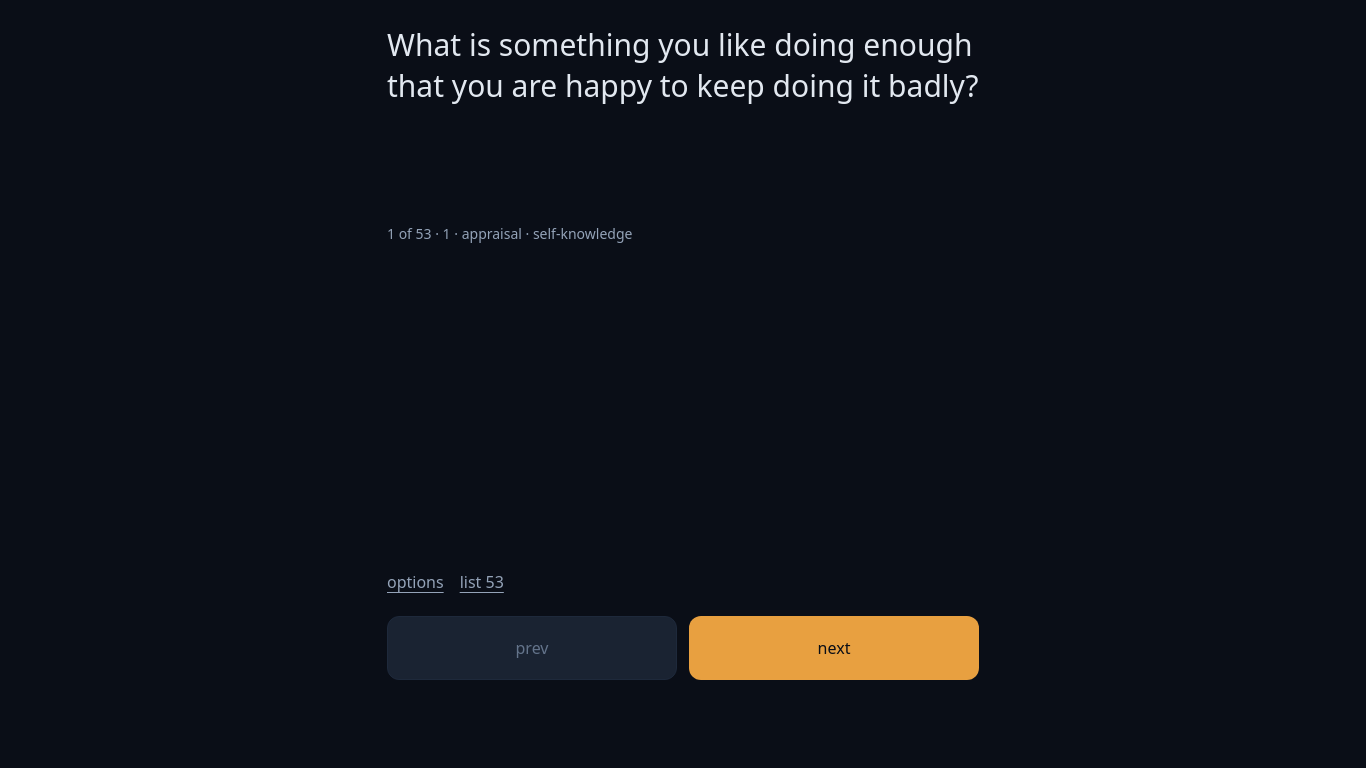
Test: QuestionsClient › closes by Escape, backdrop and close control and returns focus to the opener
Click the button "options" at (415, 582), box [387,560,444,604]
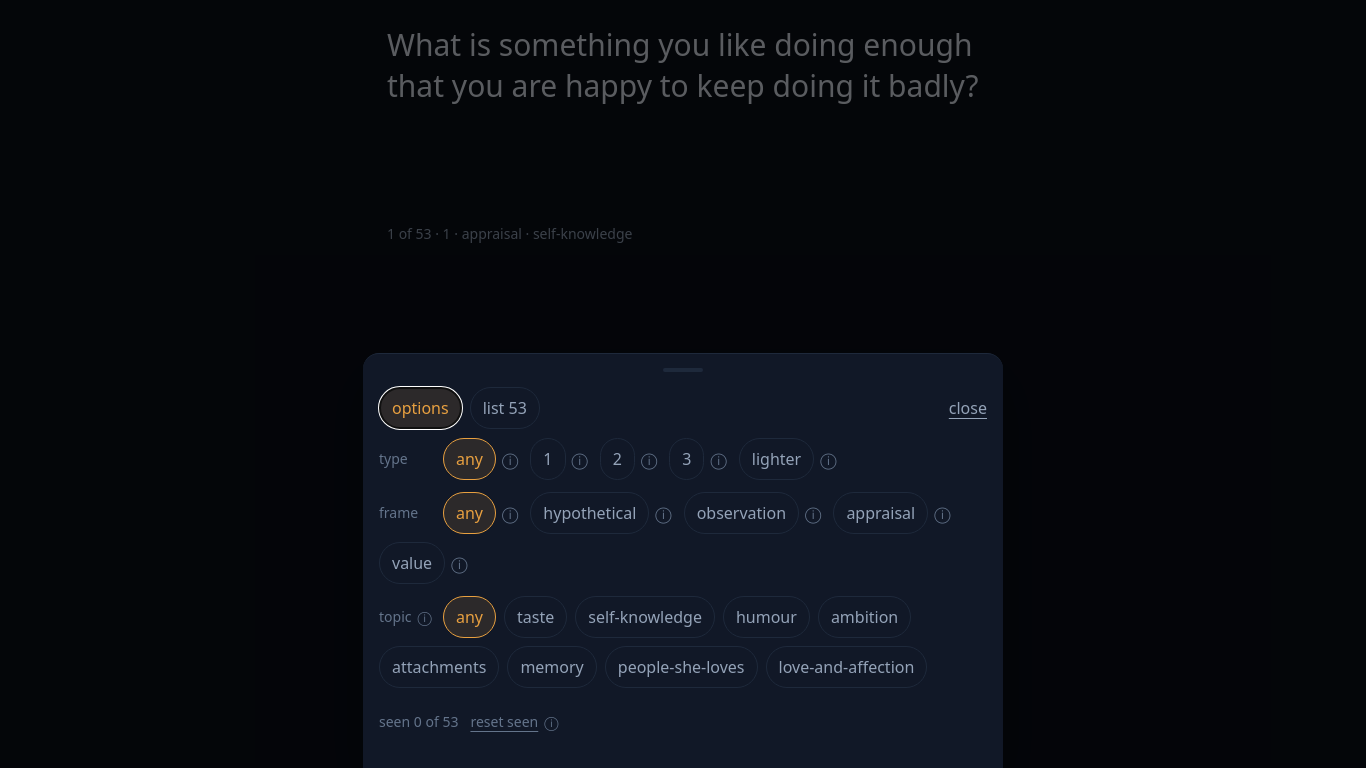
Press Escape
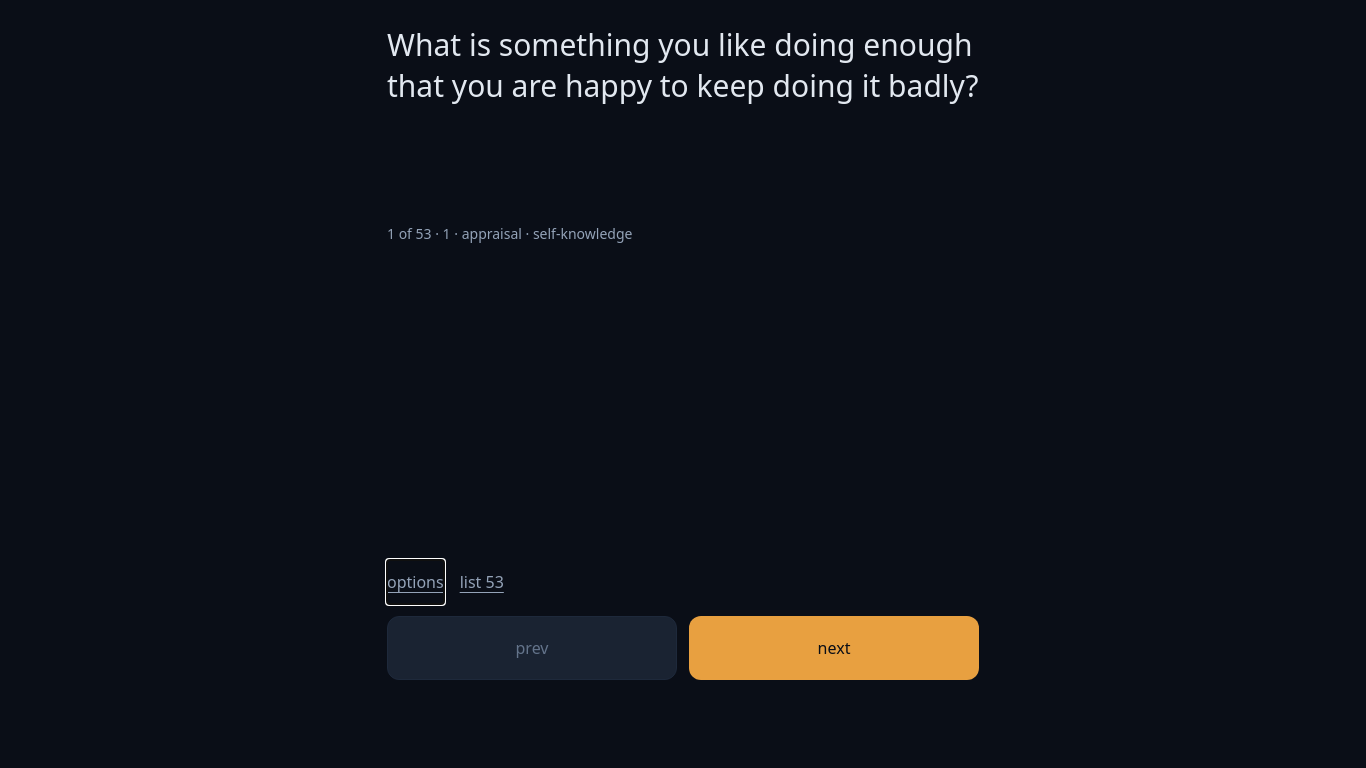
Check: the dialog is gone
Click the button "options" at (415, 582), box [387,560,444,604]
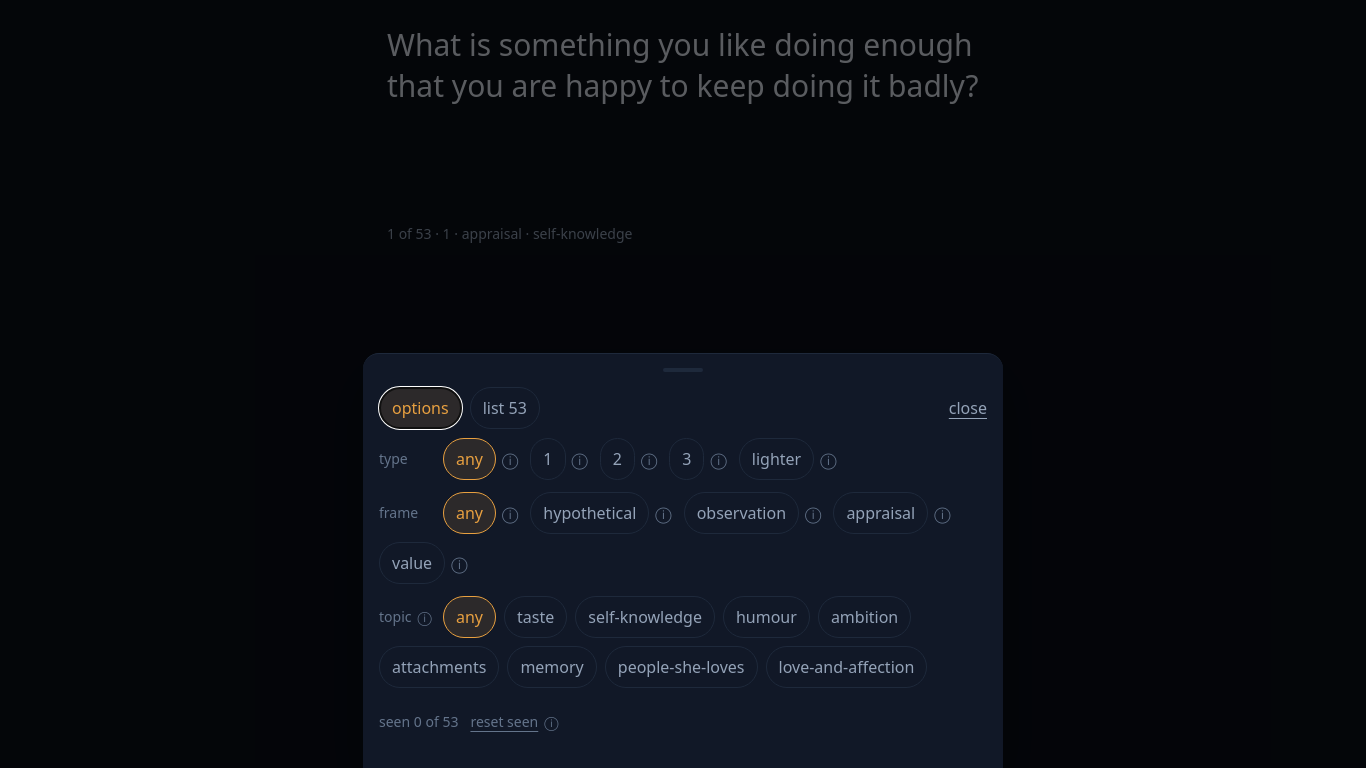
Click the element that starts with "options" at (82, 384), box [0,0,1365,767]
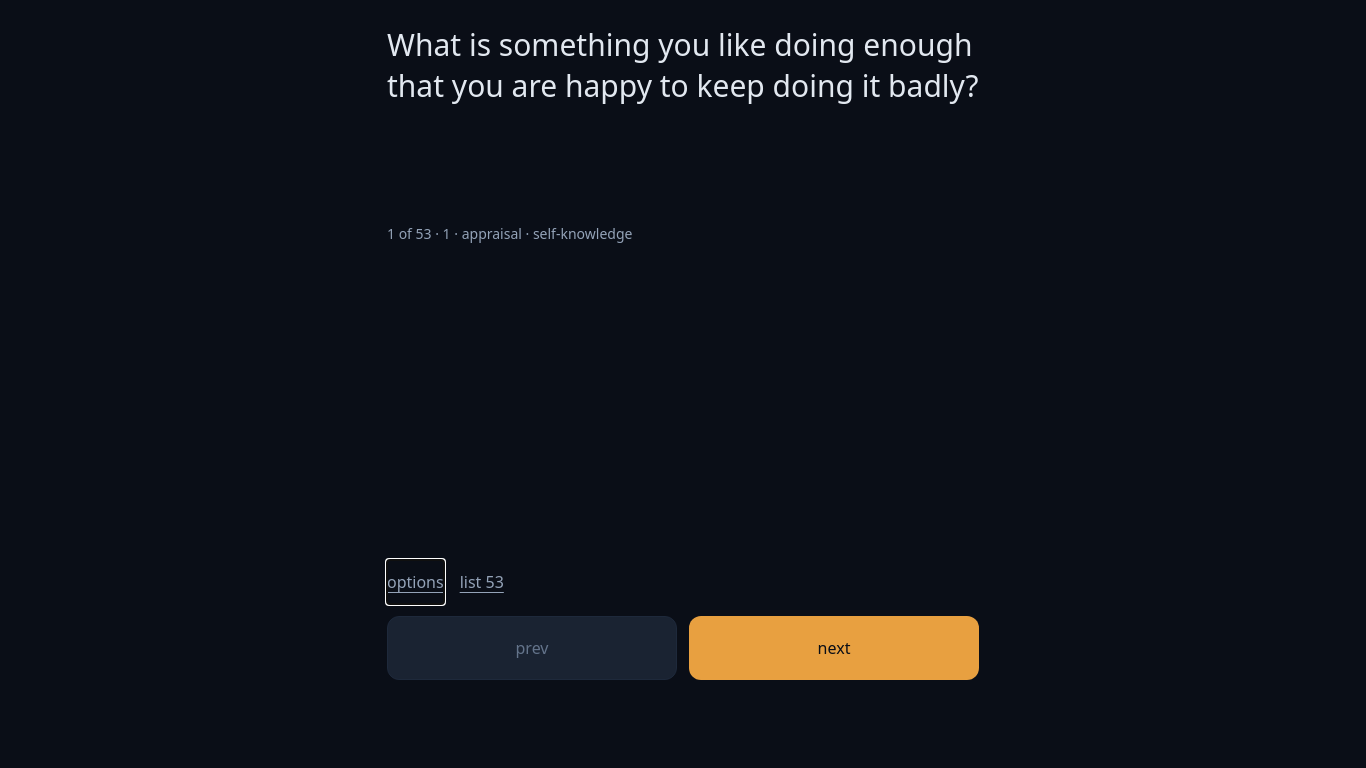
Check: the dialog is gone
Click the button "options" at (415, 582), box [387,560,444,604]
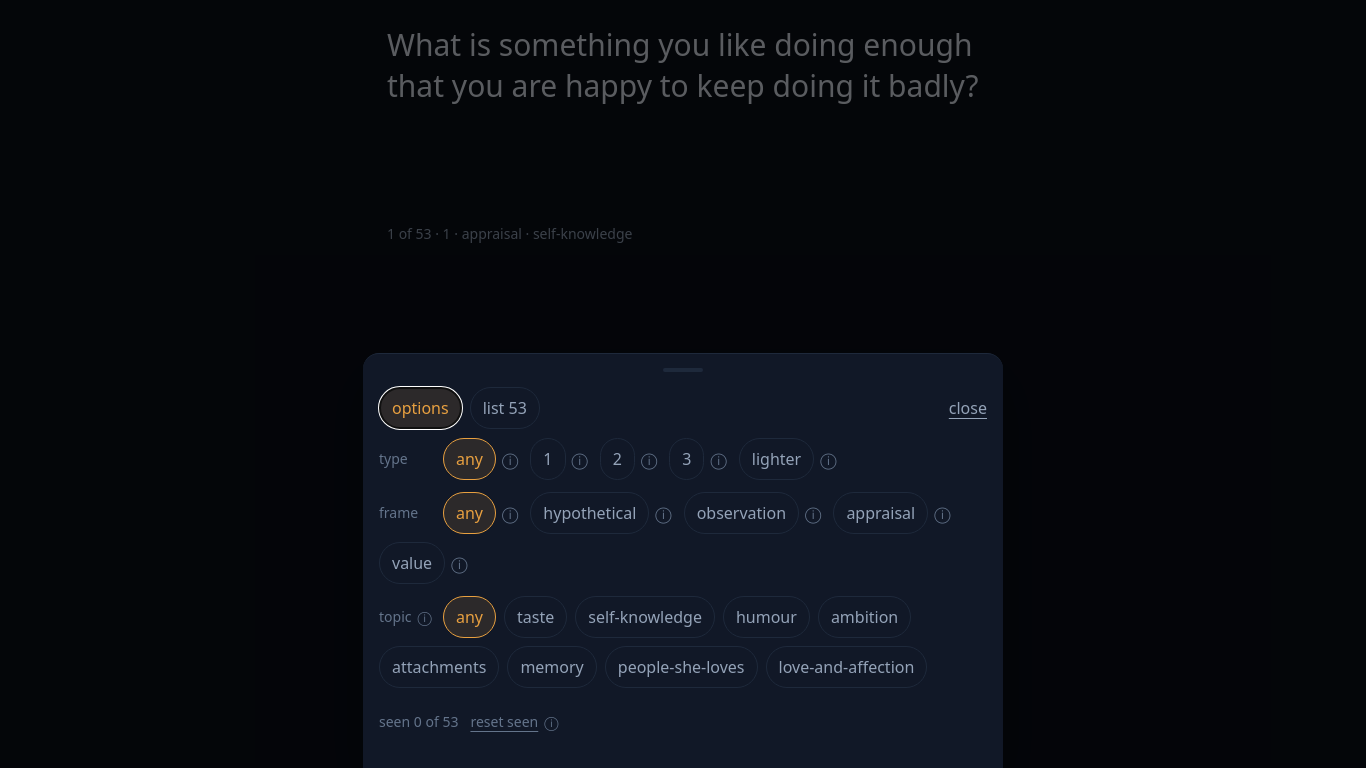
Click the button "close" at (968, 408), box [949,386,987,430]
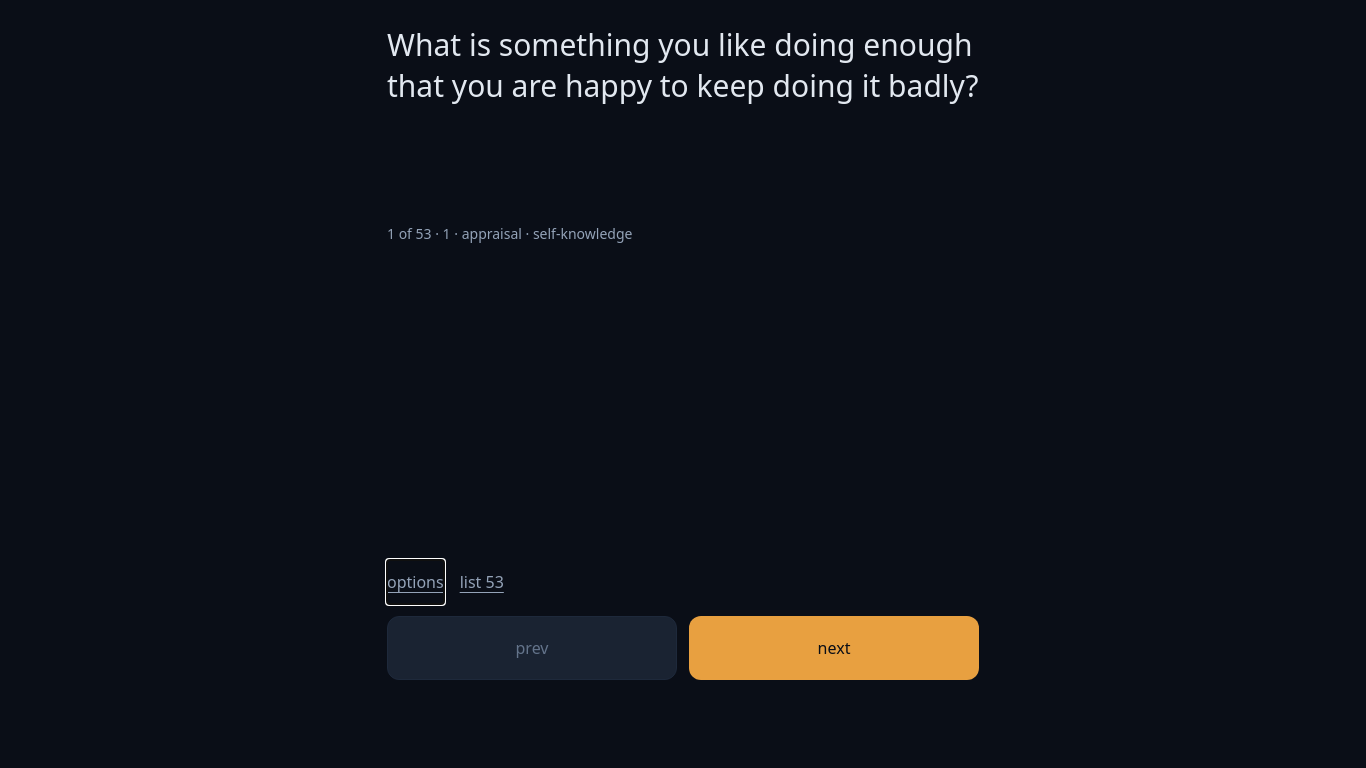
Check: the dialog is gone
